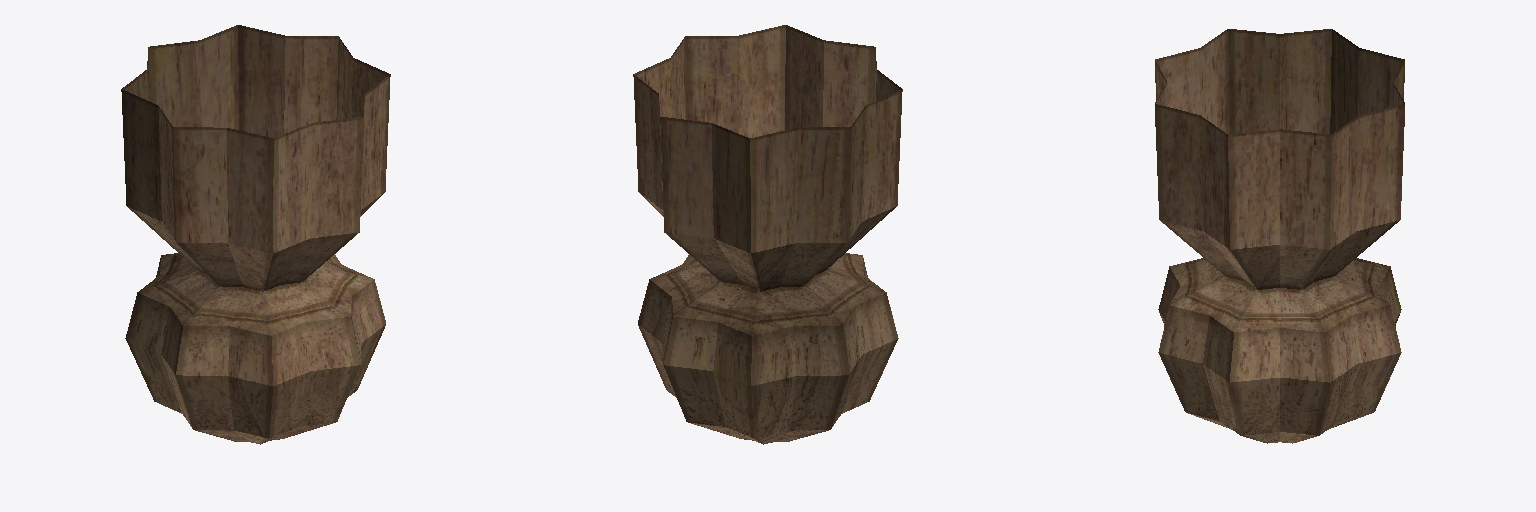
3 renders of one model, left to right at view 1: azimuth 30°, elevation 25°; view 2: azimuth 150°, elevation 25°; view 3: azimuth 270°, elevation 25°, orthographic.
Parts seen in each view (by area): view 1: go_leg2_LOD2_Mesh.006; view 2: go_leg2_LOD2_Mesh.006; view 3: go_leg2_LOD2_Mesh.006.
Part boxes in pixels (x1,y1,x2,y2): go_leg2_LOD2_Mesh.006: (121, 25, 390, 444); go_leg2_LOD2_Mesh.006: (633, 25, 902, 444); go_leg2_LOD2_Mesh.006: (1155, 29, 1404, 443).
Bounding box in the file's own units: 0.0664 × 0.1018 × 0.0664.
Materials: 1 (1 with a texture image).